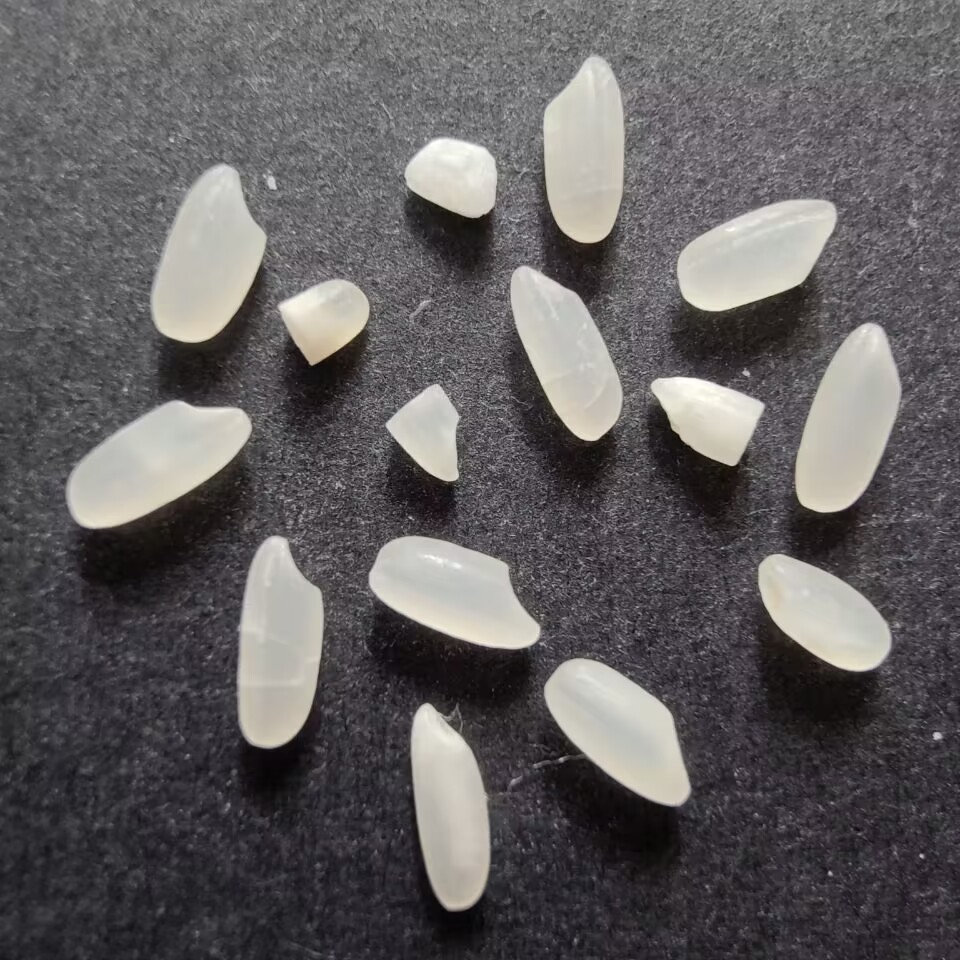broken: (647, 373, 769, 472), (399, 133, 503, 229), (272, 274, 375, 368), (379, 385, 470, 491)
rice: (63, 392, 255, 533), (143, 157, 271, 352), (538, 654, 696, 810), (505, 262, 630, 445), (792, 315, 904, 516), (229, 531, 330, 751), (363, 532, 543, 654), (673, 195, 843, 316), (402, 699, 497, 915), (537, 48, 629, 250), (754, 551, 898, 678)
